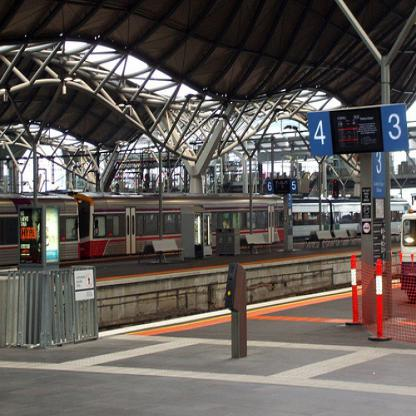train: (0, 195, 283, 264), (294, 198, 361, 238)
